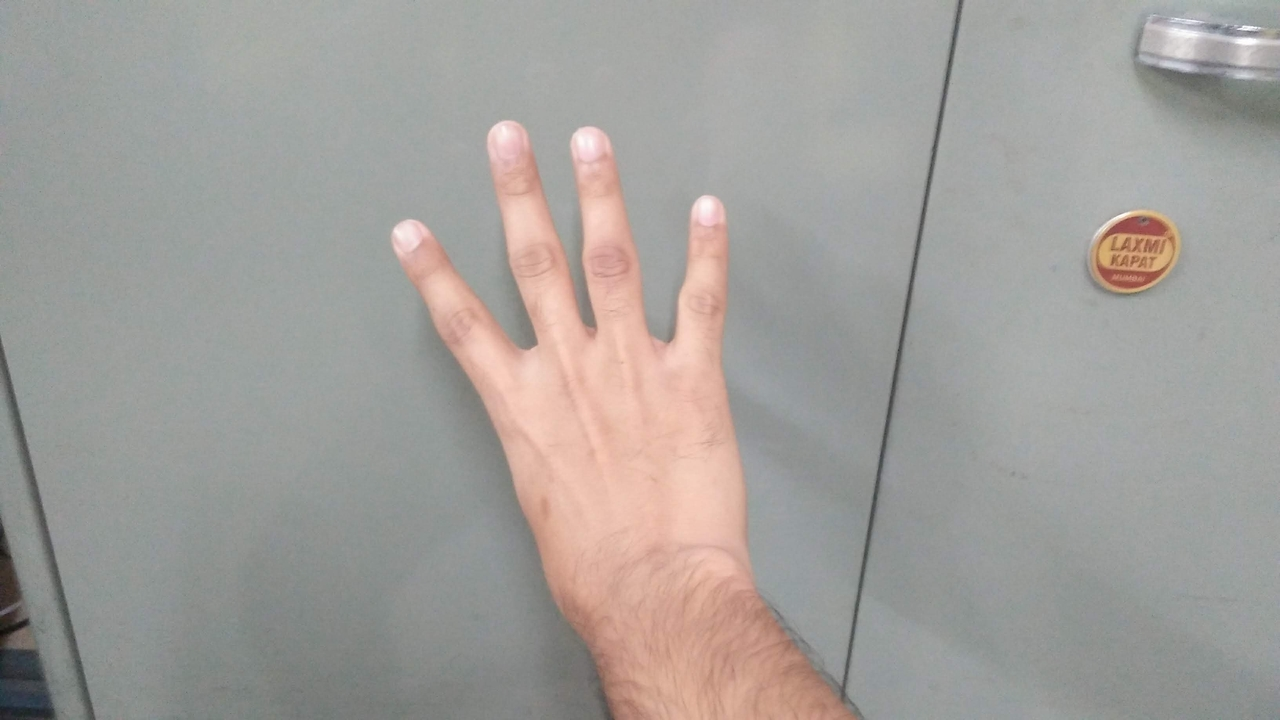fingertip: (378, 208, 444, 268), (480, 116, 540, 170), (682, 182, 736, 238), (562, 122, 622, 172)
